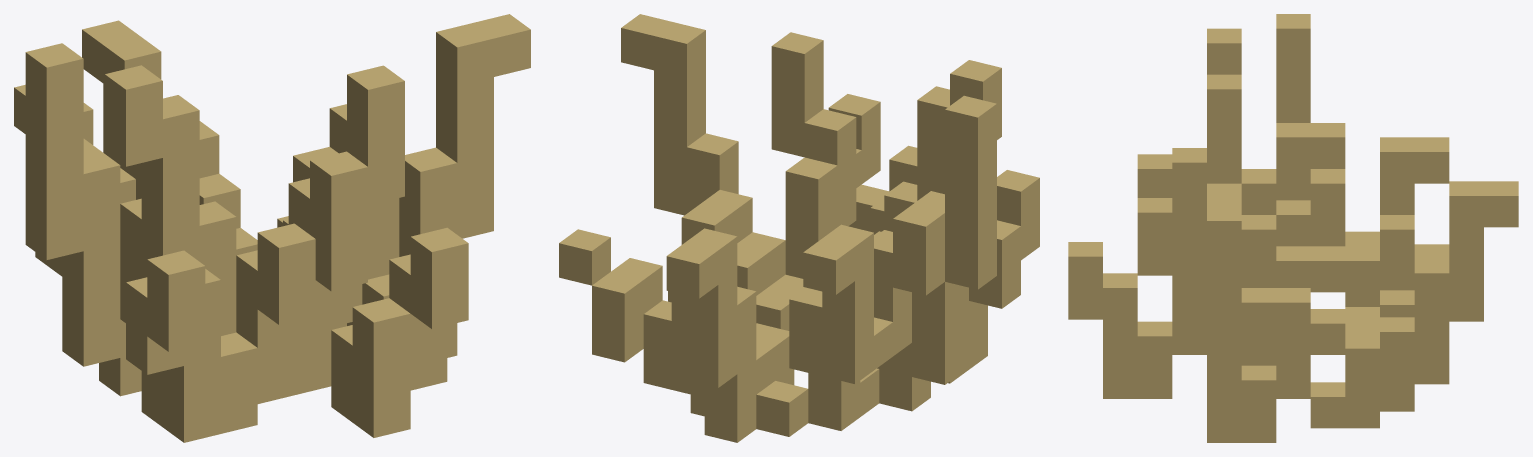
The model's file is dead_grass.glb.
3 views of the same model, side by side, from view 1: azimuth 30°, elevation 25°; view 2: azimuth 150°, elevation 25°; view 3: azimuth 270°, elevation 25° (orthographic). The views are drawn at different scales.
Bounding box in the file's own units: 0.75 × 0.5625 × 0.8125.
